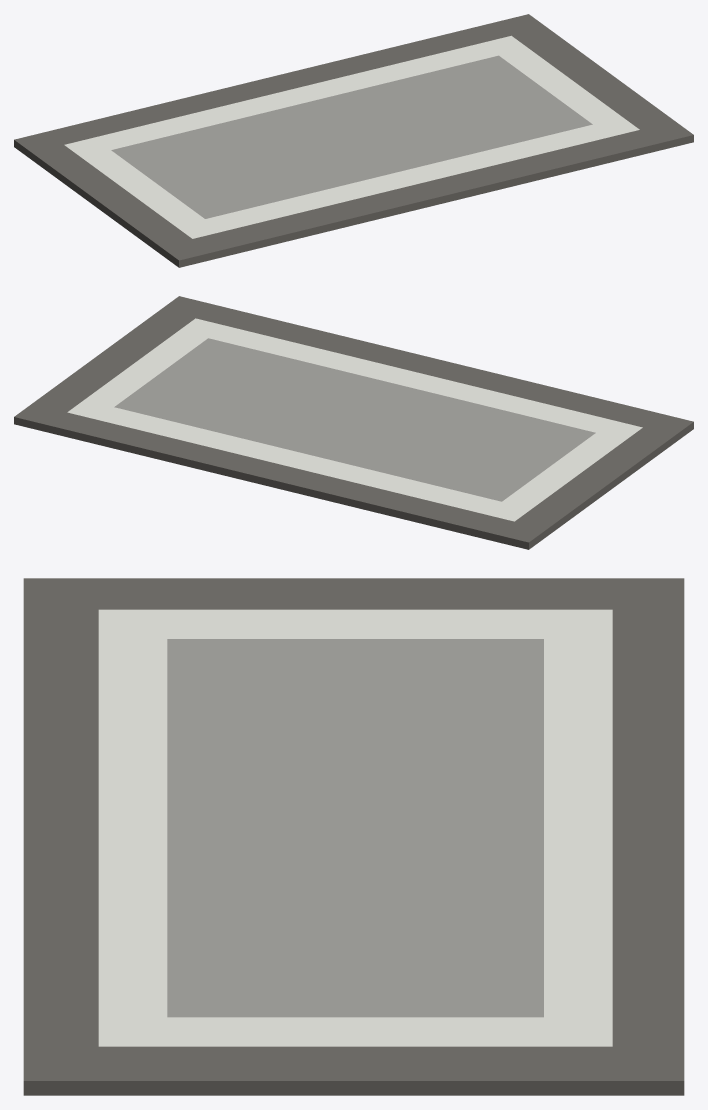
File: Carpet_3A.fbx
3 views of the same model, one above another, from view 1: azimuth 30°, elevation 25°; view 2: azimuth 150°, elevation 25°; view 3: azimuth 270°, elevation 25° (orthographic). The views are drawn at different scales.
Parts seen in each view (by area): view 1: pPlane12; view 2: pPlane12; view 3: pPlane12.
Part boxes in pixels (box(x1,y1,x2,y2)): pPlane12: box(14, 14, 693, 267); pPlane12: box(14, 296, 693, 549); pPlane12: box(23, 578, 684, 1095).
Size of the model in its own units: 2.25 by 0.0308 by 1.25.
1 material, 1 textured.
